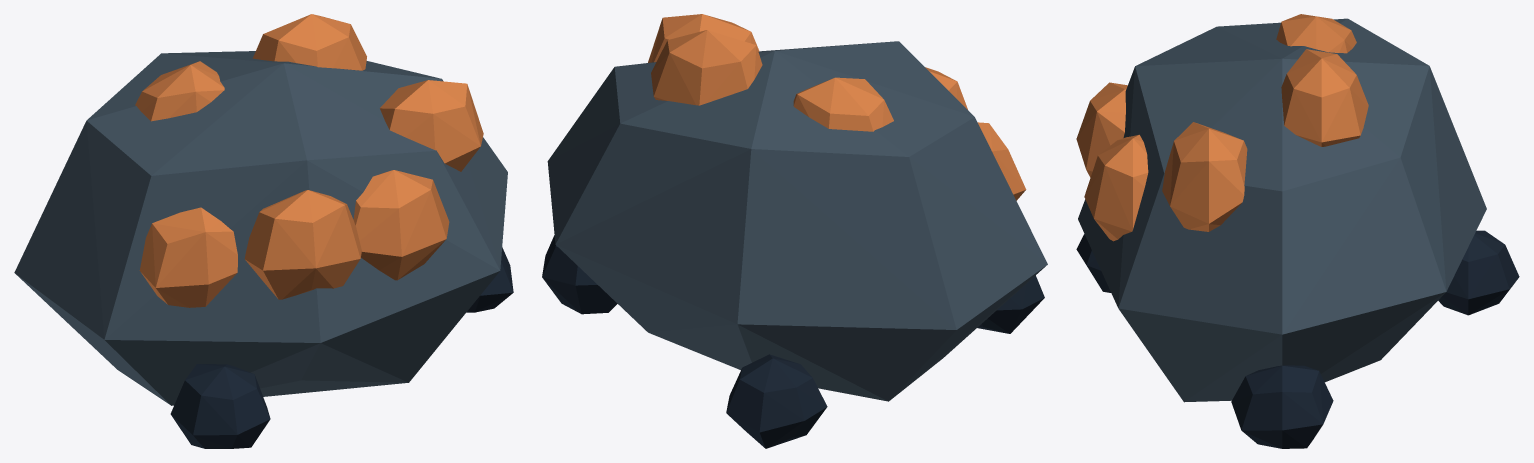
Rendered from Copper_Deposit.gltf.
3 views of the same model, side by side, from view 1: azimuth 30°, elevation 25°; view 2: azimuth 150°, elevation 25°; view 3: azimuth 270°, elevation 25° (orthographic).
Parts seen in each view (by area): view 1: Host_Rock_0, Copper_Seam_2, Copper_Seam_3, Copper_Seam_1, Loose_Stone_9, Copper_Seam_4, Copper_Seam_5, Copper_Seam_6, Loose_Stone_7; view 2: Host_Rock_0, Loose_Stone_8, Copper_Seam_5, Copper_Seam_6, Loose_Stone_7, Copper_Seam_4, Loose_Stone_9, Copper_Seam_1; view 3: Host_Rock_0, Copper_Seam_4, Loose_Stone_7, Copper_Seam_5, Copper_Seam_3, Loose_Stone_8, Copper_Seam_2, Copper_Seam_6, Loose_Stone_9.
Part boxes in pixels (x1,y1,x2,y2): Host_Rock_0: (14, 51, 507, 405); Copper_Seam_2: (244, 190, 361, 299); Copper_Seam_3: (353, 170, 449, 280); Copper_Seam_1: (139, 207, 237, 307); Loose_Stone_9: (170, 364, 270, 448); Copper_Seam_4: (380, 80, 483, 171); Copper_Seam_5: (252, 14, 366, 70); Copper_Seam_6: (135, 61, 224, 121); Loose_Stone_7: (466, 247, 513, 312); Host_Rock_0: (547, 41, 1047, 401); Loose_Stone_8: (726, 354, 827, 448); Copper_Seam_5: (651, 30, 762, 105); Copper_Seam_6: (793, 77, 893, 131); Loose_Stone_7: (542, 235, 617, 314); Copper_Seam_4: (648, 14, 759, 62); Loose_Stone_9: (977, 275, 1044, 333); Copper_Seam_1: (977, 122, 1026, 200); Host_Rock_0: (1078, 18, 1486, 402); Copper_Seam_4: (1162, 122, 1247, 231); Loose_Stone_7: (1231, 365, 1333, 448); Copper_Seam_5: (1281, 49, 1368, 146); Copper_Seam_3: (1084, 134, 1148, 241); Loose_Stone_8: (1438, 230, 1519, 315); Copper_Seam_2: (1076, 82, 1127, 177); Copper_Seam_6: (1276, 14, 1356, 53); Loose_Stone_9: (1076, 234, 1110, 292).
Bounding box in the file's own units: 2.01 × 1.39 × 1.69.
